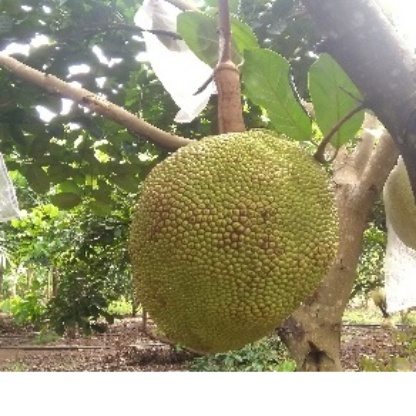mit: (131, 105, 339, 353)
